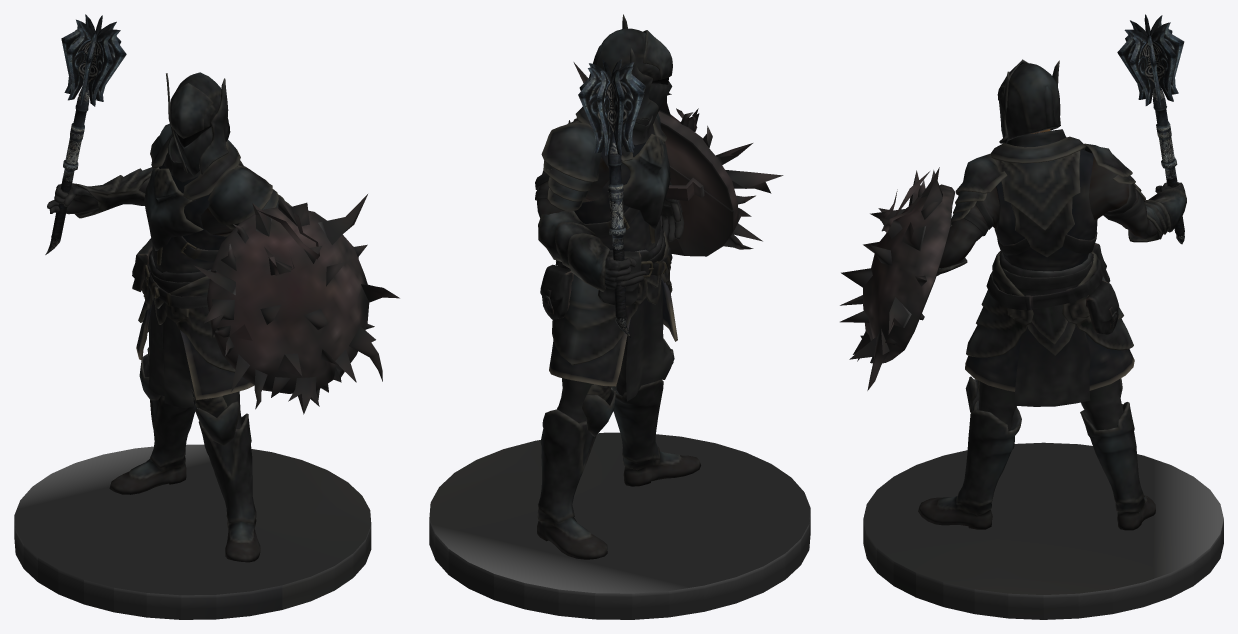
3 renders of one model, left to right at view 1: azimuth 30°, elevation 25°; view 2: azimuth 150°, elevation 25°; view 3: azimuth 270°, elevation 25°, orthographic. The views are drawn at different scales.
Visible parts, largest first — view 1: satanic_mace_reference.smd; view 2: satanic_mace_reference.smd; view 3: satanic_mace_reference.smd.
Part boxes in pixels (x1,y1,x2,y2): satanic_mace_reference.smd: [14, 14, 399, 619]; satanic_mace_reference.smd: [429, 14, 810, 619]; satanic_mace_reference.smd: [840, 14, 1223, 619].
Size of the model in its own units: 1.18 by 1.81 by 1.26.
Materials: 1 (1 with a texture image).
